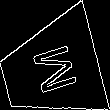M_W: (24, 41, 78, 99)
